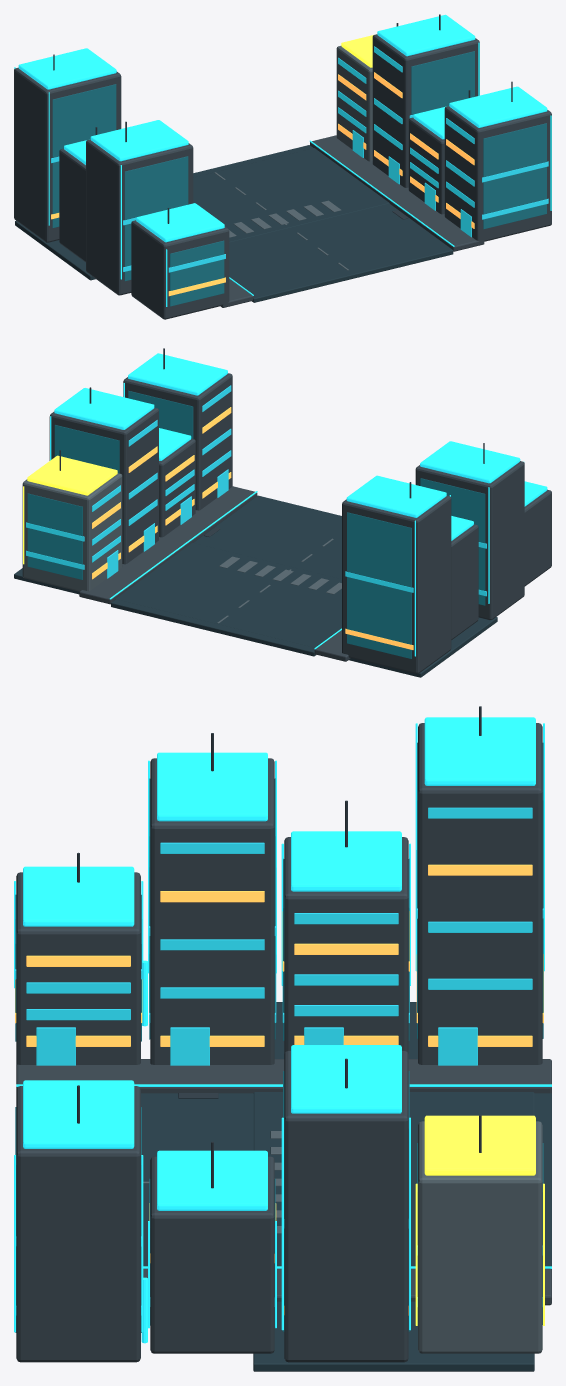
Rendered from t_junction_lod0.glb.
The picture shows the model from 3 angles, top to bottom: view 1: azimuth 30°, elevation 25°; view 2: azimuth 150°, elevation 25°; view 3: azimuth 270°, elevation 25°; orthographic projection. The views are drawn at different scales.
Parts seen in each view (by area): view 1: ND_Batch_ND_CityConcrete, ND_Batch_ND_WetAsphalt, ND_Batch_ND_DarkGlass, ND_Batch_ND_CityCyanMuted, ND_Batch_ND_NeonGlass, ND_Batch_ND_RoadEdge, ND_Batch_ND_CityConcreteLight, ND_Batch_ND_WarmWindow, ND_Batch_ND_PackageGold; view 2: ND_Batch_ND_CityConcrete, ND_Batch_ND_WetAsphalt, ND_Batch_ND_DarkGlass, ND_Batch_ND_CityCyanMuted, ND_Batch_ND_CityConcreteLight, ND_Batch_ND_RoadEdge, ND_Batch_ND_NeonGlass, ND_Batch_ND_PackageGold, ND_Batch_ND_WarmWindow; view 3: ND_Batch_ND_CityConcrete, ND_Batch_ND_CityCyanMuted, ND_Batch_ND_CityConcreteLight, ND_Batch_ND_WetAsphalt, ND_Batch_ND_NeonGlass, ND_Batch_ND_RoadEdge, ND_Batch_ND_WarmWindow, ND_Batch_ND_PackageGold, ND_Batch_ND_DarkGlass, ND_Batch_ND_RooftopMetal.
Boxes of the visible parts, x1,y1,x2,y2 form: ND_Batch_ND_CityConcrete: (14, 34, 551, 319); ND_Batch_ND_WetAsphalt: (15, 145, 453, 302); ND_Batch_ND_DarkGlass: (52, 51, 546, 306); ND_Batch_ND_CityCyanMuted: (14, 14, 551, 306); ND_Batch_ND_NeonGlass: (51, 46, 548, 272); ND_Batch_ND_RoadEdge: (220, 135, 484, 307); ND_Batch_ND_CityConcreteLight: (214, 46, 372, 270); ND_Batch_ND_WarmWindow: (51, 72, 474, 296); ND_Batch_ND_PackageGold: (341, 35, 373, 67); ND_Batch_ND_CityConcrete: (49, 373, 551, 673); ND_Batch_ND_WetAsphalt: (14, 495, 497, 677); ND_Batch_ND_DarkGlass: (27, 390, 485, 658); ND_Batch_ND_CityCyanMuted: (50, 353, 547, 656); ND_Batch_ND_CityConcreteLight: (22, 473, 341, 623); ND_Batch_ND_RoadEdge: (79, 486, 350, 661); ND_Batch_ND_NeonGlass: (26, 385, 486, 596); ND_Batch_ND_PackageGold: (23, 455, 117, 564); ND_Batch_ND_WarmWindow: (92, 407, 413, 649); ND_Batch_ND_CityConcrete: (16, 723, 542, 1362); ND_Batch_ND_CityCyanMuted: (14, 717, 551, 1343); ND_Batch_ND_CityConcreteLight: (143, 1121, 542, 1353); ND_Batch_ND_WetAsphalt: (141, 1002, 551, 1371); ND_Batch_ND_NeonGlass: (15, 807, 543, 1315); ND_Batch_ND_RoadEdge: (16, 1059, 551, 1305); ND_Batch_ND_WarmWindow: (15, 864, 543, 1315); ND_Batch_ND_PackageGold: (415, 1115, 544, 1325); ND_Batch_ND_DarkGlass: (15, 742, 543, 1332); ND_Batch_ND_RooftopMetal: (77, 706, 481, 1188).
Size of the model in its own units: 32 by 13.43 by 20.09.
